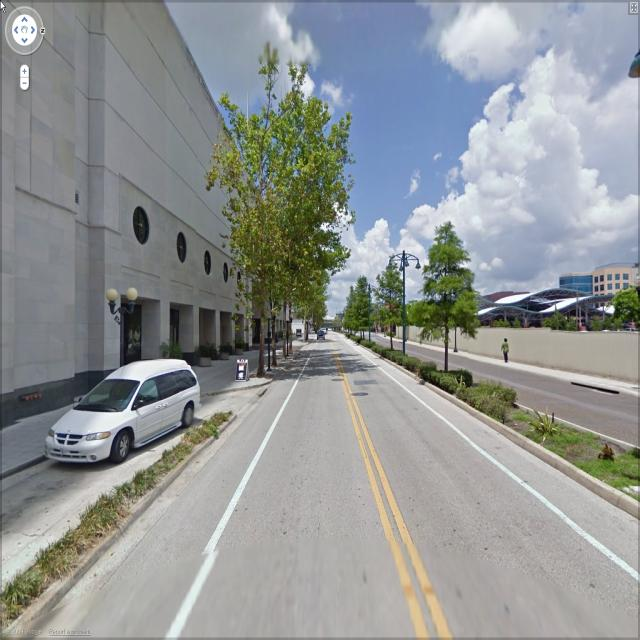b_1: (0, 4, 248, 327), (595, 261, 640, 296), (553, 263, 603, 290)
b_2: (0, 7, 304, 426)
